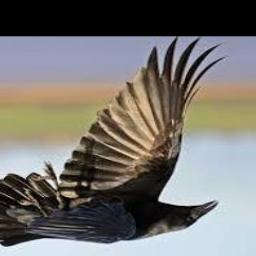Crow: (0, 37, 226, 246)
